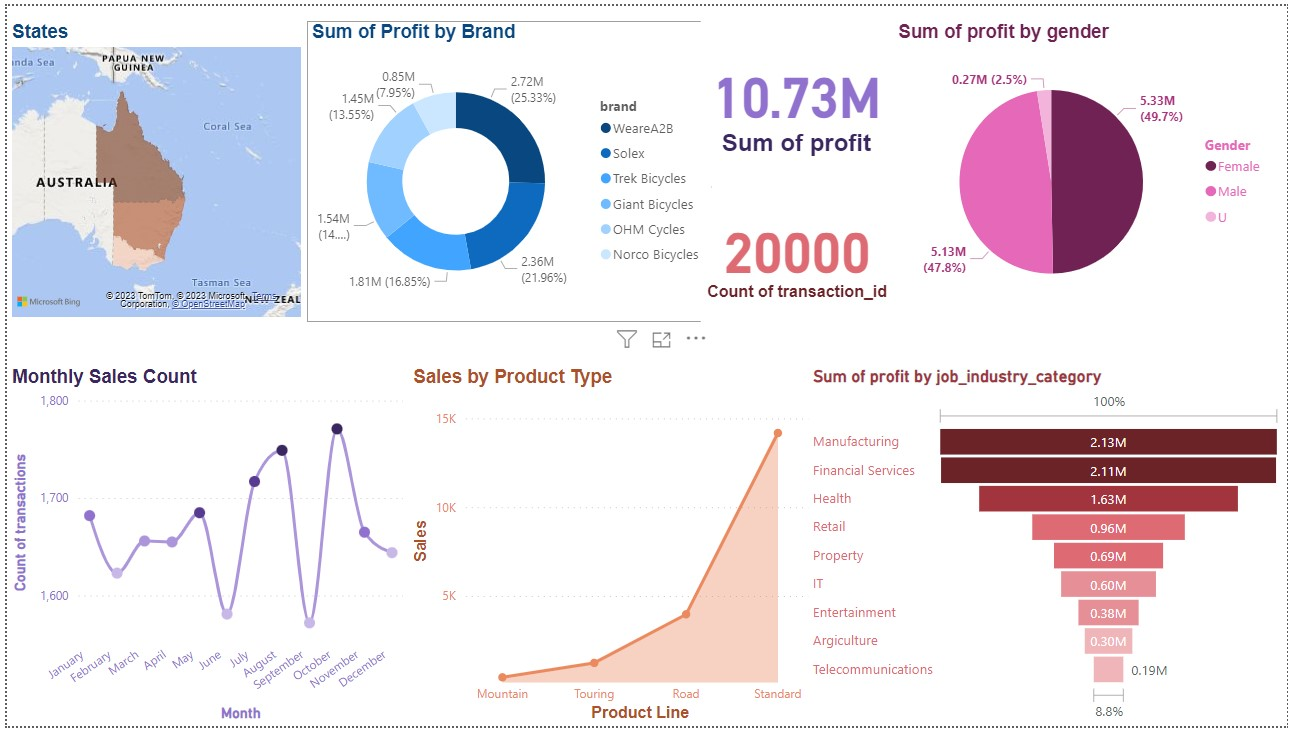

What the dashboard file says about the page in this screenshot:
{"tool":"powerbi","page":{"name":"Page 1","canvas":[1280,720],"ordinal":0},"visuals":[{"type":"filledMap","title":"States","fields":{"Category":["Table5.state"]},"box":[0,15.4,299.4,300.6],"z":0},{"type":"donutChart","title":"Sum of Profit by Brand","fields":{"Category":["Table3.brand"],"Y":["Sum(Transactions.profit)"]},"box":[299.4,15.4,405.9,300.6],"z":1000},{"type":"card","fields":{"Values":["Sum(Table3.profit)"]},"box":[693.5,15.4,191.7,165.7],"z":2000},{"type":"card","fields":{"Values":["Count(Transactions.transaction_id)"]},"box":[693.5,181.1,192.9,134.9],"z":3000},{"type":"lineChart","title":"Monthly Sales Count","fields":{"Category":["Transactions.transaction_date.Variation.Date Hierarchy.Month"],"Y":["CountNonNull(Transactions.transaction_id)"]},"box":[0,360,401.2,360],"z":4000},{"type":"areaChart","title":"Sales by Product Type","fields":{"Category":["Transactions.product_line"],"Y":["CountNonNull(Transactions.transaction_id)"]},"box":[401.2,360,411.2,360],"z":5000},{"type":"pieChart","fields":{"Category":["CustomerDemographics.gender"],"Y":["Sum(Transactions.profit)"]},"box":[886.2,15,382.5,301.2],"z":6000},{"type":"funnel","fields":{"Category":["CustomerDemographics.job_industry_category"],"Y":["Sum(Transactions.profit)"]},"box":[801.2,360,478.8,360],"z":7000}]}

Visuals, with their boxes in screenshot pixels (x1, y1, x2, y2), scaled from the page's 1280x720 canvas onto the 1292x732 screenshot:
"States" filledMap: 0 16 302 321
"Sum of Profit by Brand" donutChart: 302 16 712 321
card - Sum(Table3.profit): 700 16 893 184
card - Count(Transactions.transaction_id): 700 184 895 321
"Monthly Sales Count" lineChart: 0 366 405 731
"Sales by Product Type" areaChart: 405 366 820 731
pieChart - CustomerDemographics.gender x Sum(Transactions.profit): 895 15 1281 321
funnel - CustomerDemographics.job_industry_category x Sum(Transactions.profit): 809 366 1291 731
